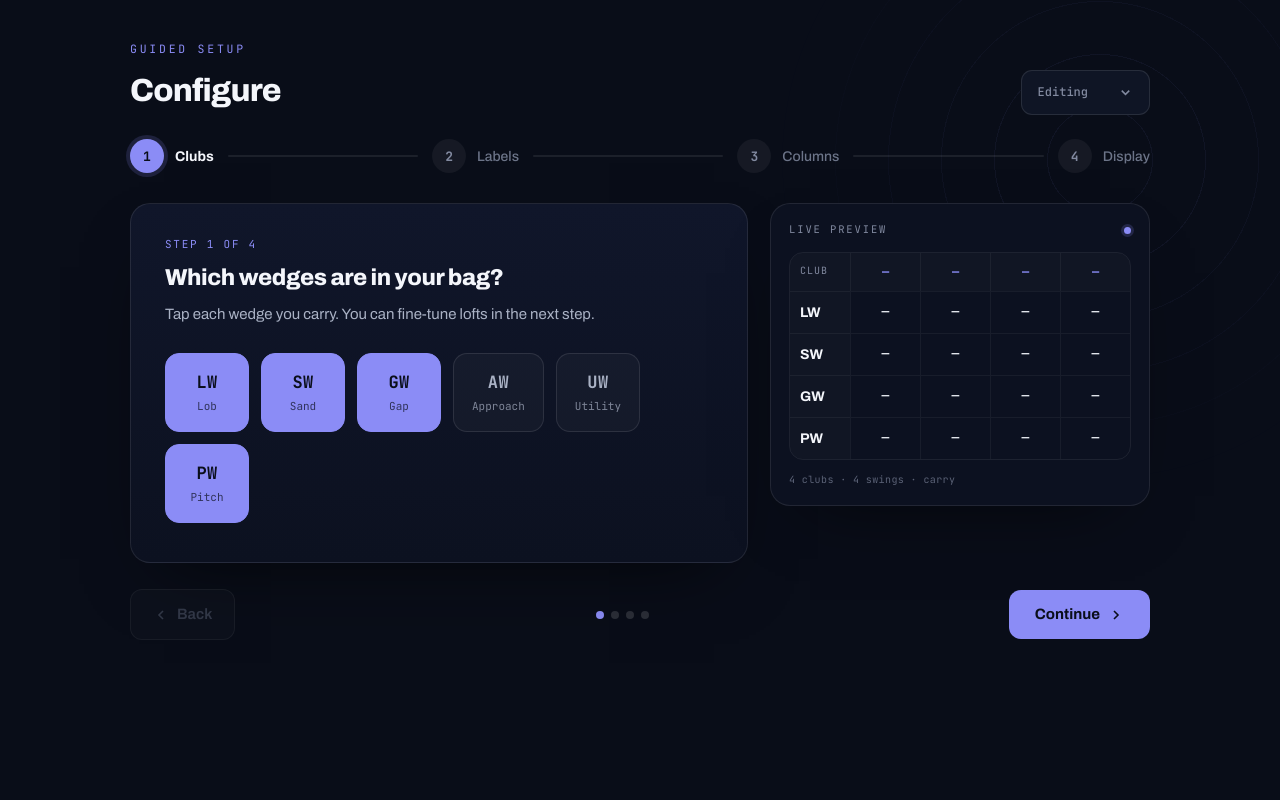
Scenario: ConfigureView › Wizard Navigation › jumps directly to a step when the stepper button is clicked
This screenshot has width=1280, height=800.
Click the button with test id "step-display": (1104, 156) [1058, 139, 1150, 173]
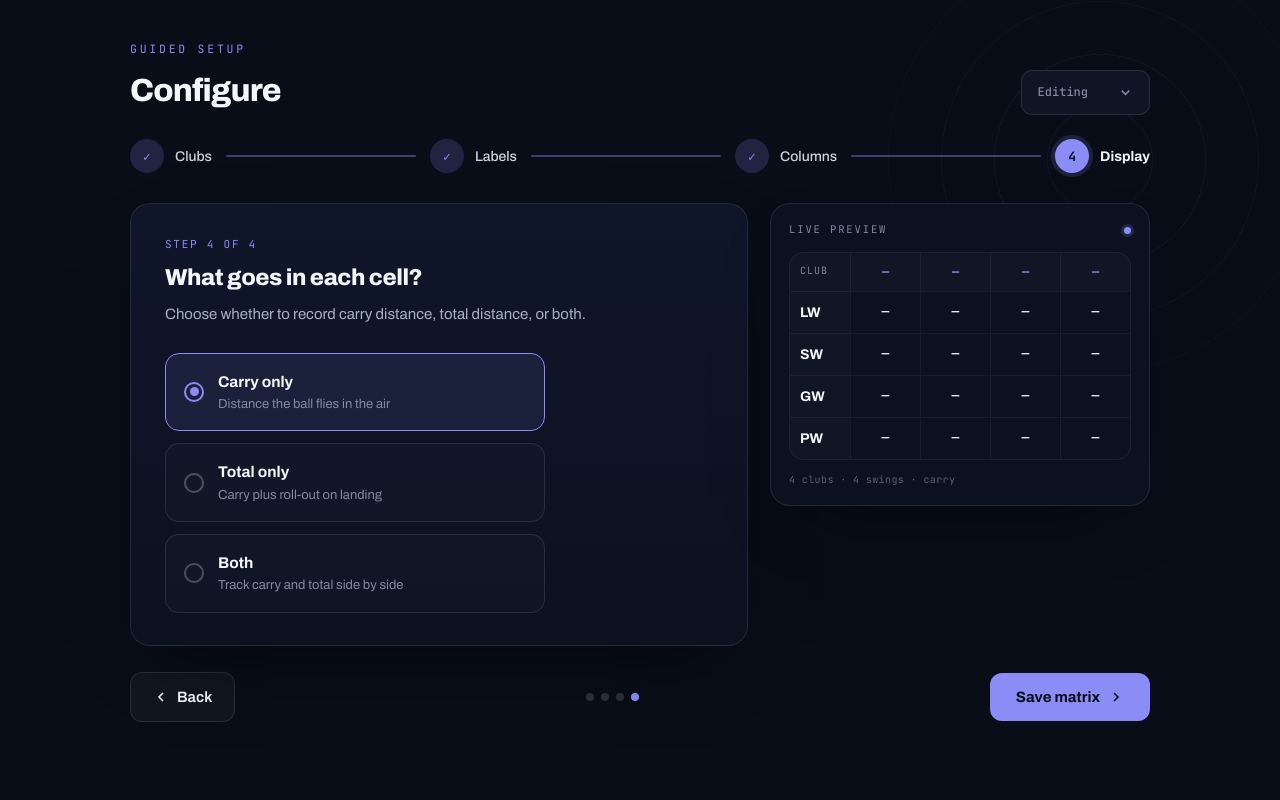
Check: the text "Step 4 of 4" is shown, box [165, 237, 257, 251]
Check: the text "What goes in each cell?" is shown, box [165, 265, 422, 290]
